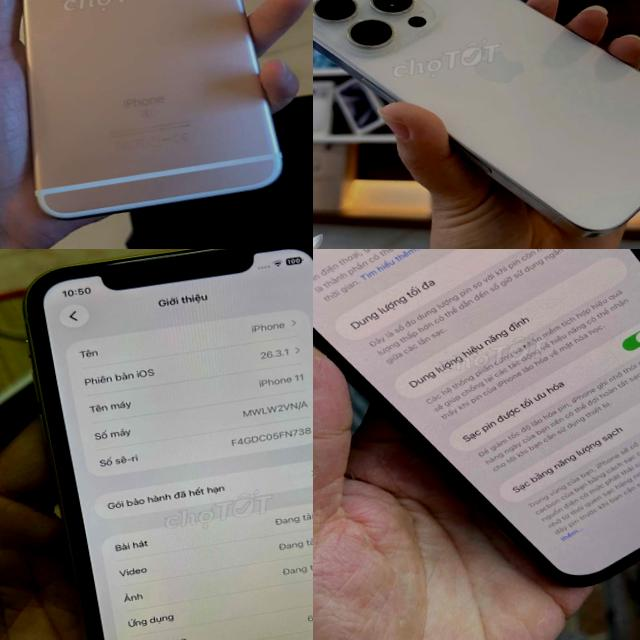gen_11: (0, 249, 313, 640)
gen_14: (313, 249, 640, 632)
gen_16: (313, 0, 640, 235)
gen_6: (0, 0, 313, 243)
